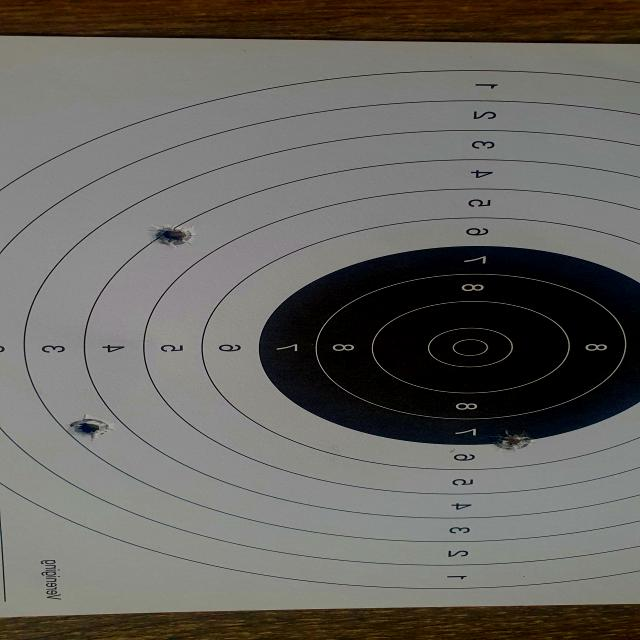3: (66, 413, 114, 442)
4: (151, 225, 199, 248)
7: (491, 426, 535, 456)
Target: (3, 72, 640, 589)
black_contour: (260, 245, 640, 445)
